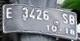2: (36, 8, 44, 22)
3: (22, 6, 29, 18)
4: (30, 7, 36, 21)
6: (44, 8, 50, 24)
B: (69, 14, 75, 25)
S: (61, 13, 69, 26), (6, 8, 14, 20)
